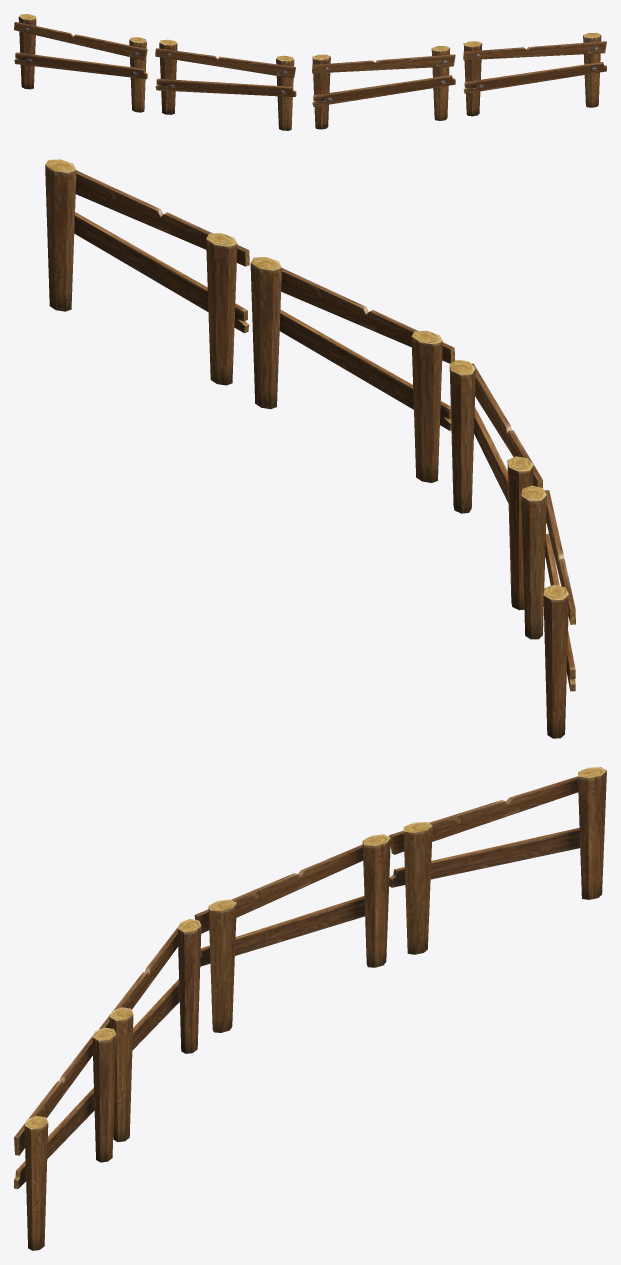
File: Area_13_64.fbx
3 views of the same model, one above another, from view 1: azimuth 30°, elevation 25°; view 2: azimuth 150°, elevation 25°; view 3: azimuth 270°, elevation 25° (orthographic). The views are drawn at different scales.
Parts seen in each view (by area): view 1: Area_13_64; view 2: Area_13_64; view 3: Area_13_64.
Boxes of the visible parts, x1,y1,x2,y2 form: Area_13_64: (14, 14, 606, 130); Area_13_64: (45, 159, 575, 738); Area_13_64: (14, 767, 606, 1250).
Bounding box in the file's own units: 882 × 142 × 605.
